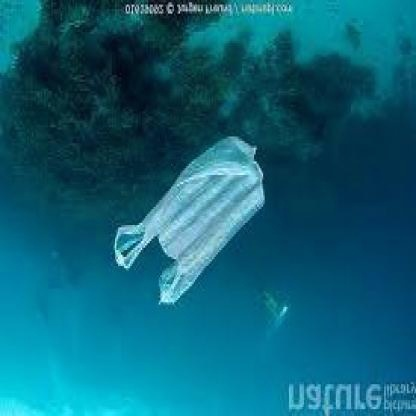pbag: (113, 134, 266, 309)
